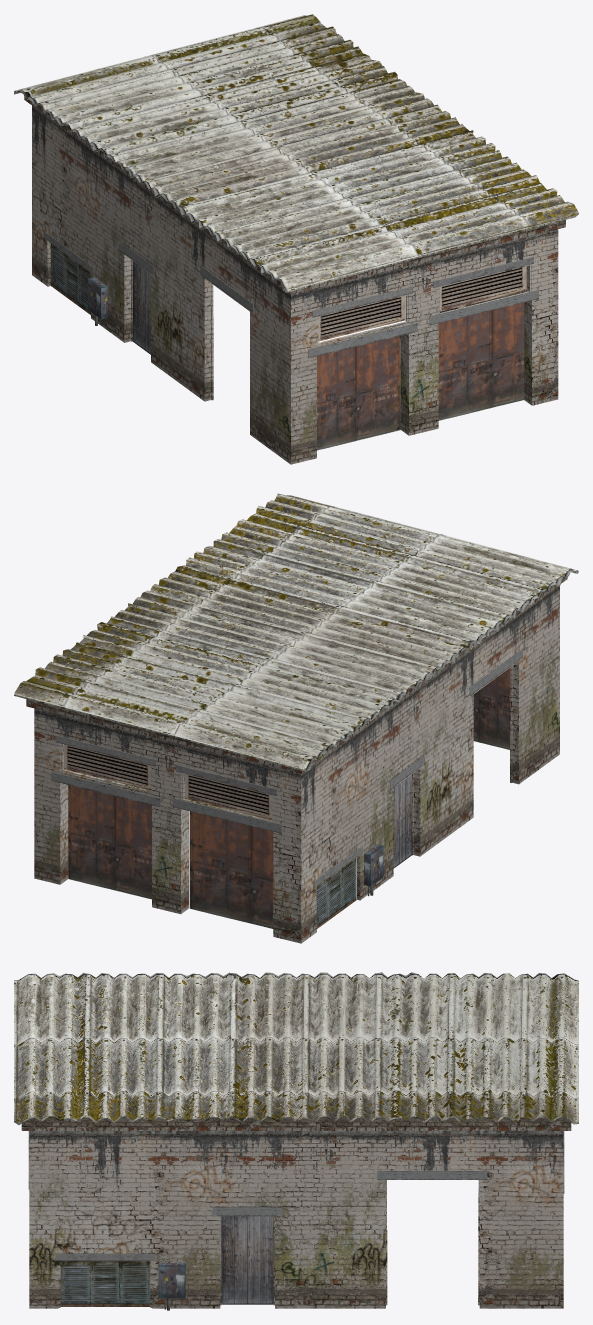
3 renders of one model, top to bottom at view 1: azimuth 30°, elevation 25°; view 2: azimuth 150°, elevation 25°; view 3: azimuth 270°, elevation 25°, orthographic. The views are drawn at different scales.
Parts seen in each view (by area): view 1: old-garage; view 2: old-garage; view 3: old-garage.
Part boxes in pixels (x1,y1,x2,y2): old-garage: (14,14,578,464); old-garage: (14,493,578,943); old-garage: (14,972,578,1310).
Bounding box in the file's own units: 7.79 × 4.78 × 12.3.
Materials: 10 (10 with a texture image).
